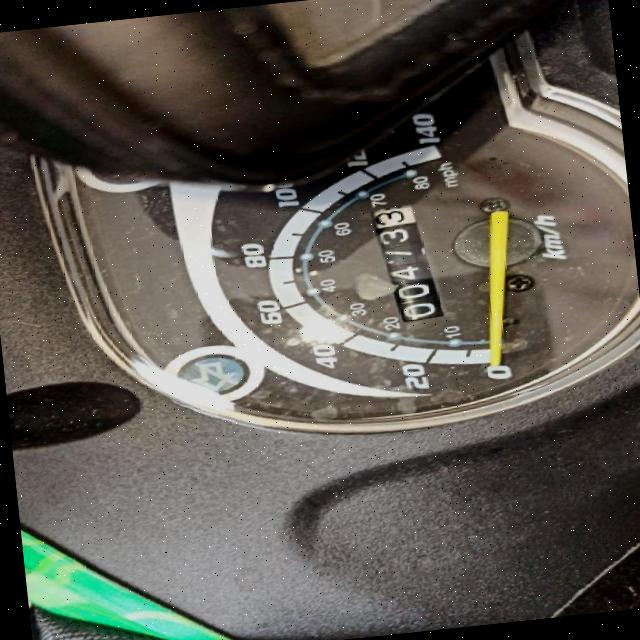odometer: (366, 200, 454, 330)
